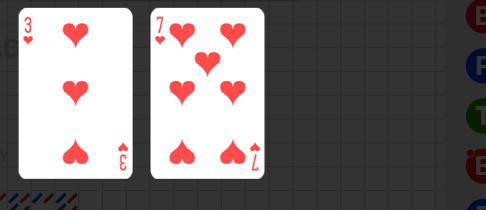3H: (22, 16, 35, 48)
7H: (248, 140, 261, 172)
